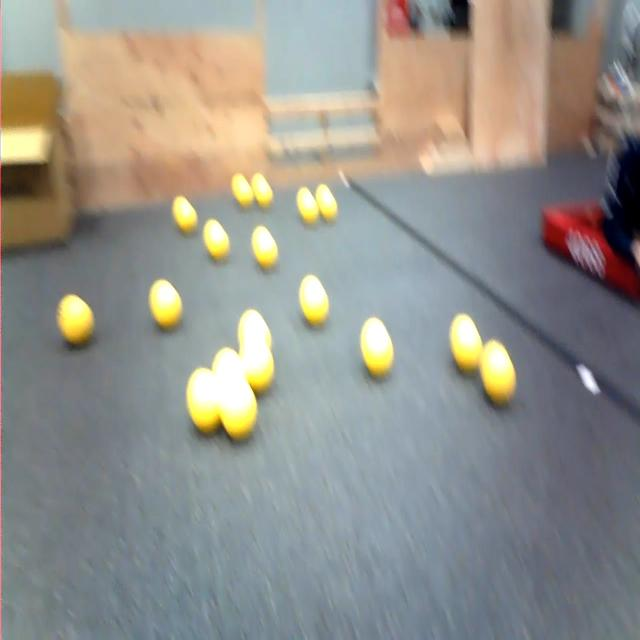Bumper: (534, 192, 640, 328)
fuel: (179, 362, 229, 432), (49, 286, 101, 353), (149, 260, 185, 348), (220, 367, 262, 438), (477, 341, 522, 407), (356, 315, 399, 382), (444, 309, 482, 382), (237, 331, 277, 397), (249, 216, 283, 275), (195, 216, 235, 266), (297, 268, 329, 329), (232, 308, 274, 348), (170, 190, 200, 238), (209, 342, 241, 383), (314, 175, 340, 222), (229, 169, 255, 211), (251, 169, 276, 211), (296, 185, 320, 228)
